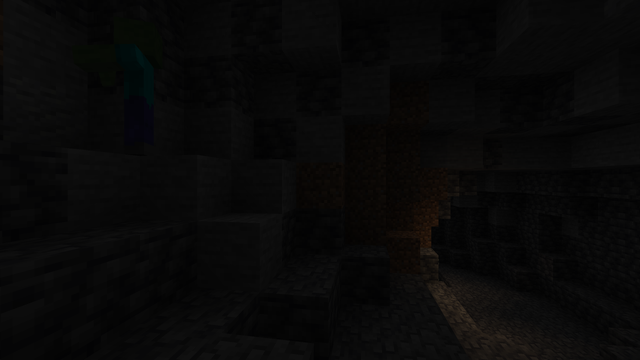zombies: (105, 18, 170, 157)
